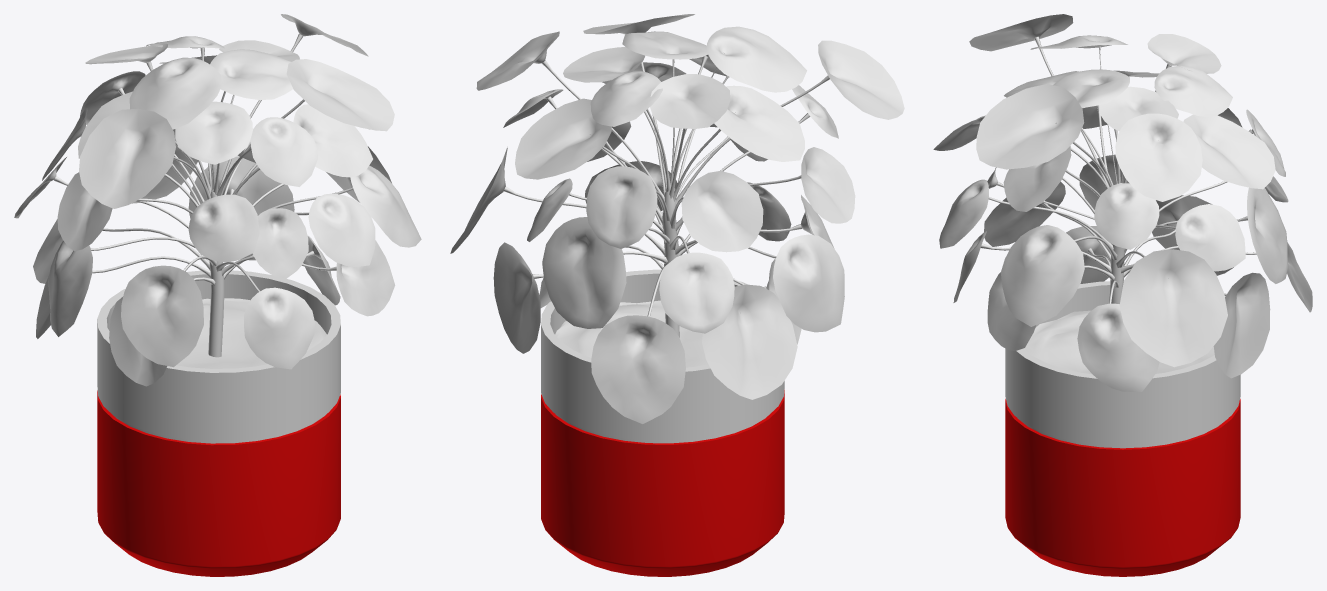
The model's file is Plant Pilea Peperomioides.fbx.
The picture shows the model from 3 angles, left to right: view 1: azimuth 30°, elevation 25°; view 2: azimuth 150°, elevation 25°; view 3: azimuth 270°, elevation 25°; orthographic projection. The views are drawn at different scales.
Parts seen in each view (by area): view 1: Plant_Pilea_Peperomioides, Vase; view 2: Plant_Pilea_Peperomioides, Vase; view 3: Plant_Pilea_Peperomioides, Vase.
Part boxes in pixels (left/top/right/bottom): Plant_Pilea_Peperomioides: left=14, top=14, right=421, bottom=386; Vase: left=97, top=270, right=340, bottom=576; Plant_Pilea_Peperomioides: left=450, top=14, right=904, bottom=423; Vase: left=541, top=269, right=784, bottom=576; Plant_Pilea_Peperomioides: left=933, top=14, right=1312, bottom=391; Vase: left=1005, top=281, right=1240, bottom=576.
Bounding box in the file's own units: 36.8 × 47.83 × 34.56.
